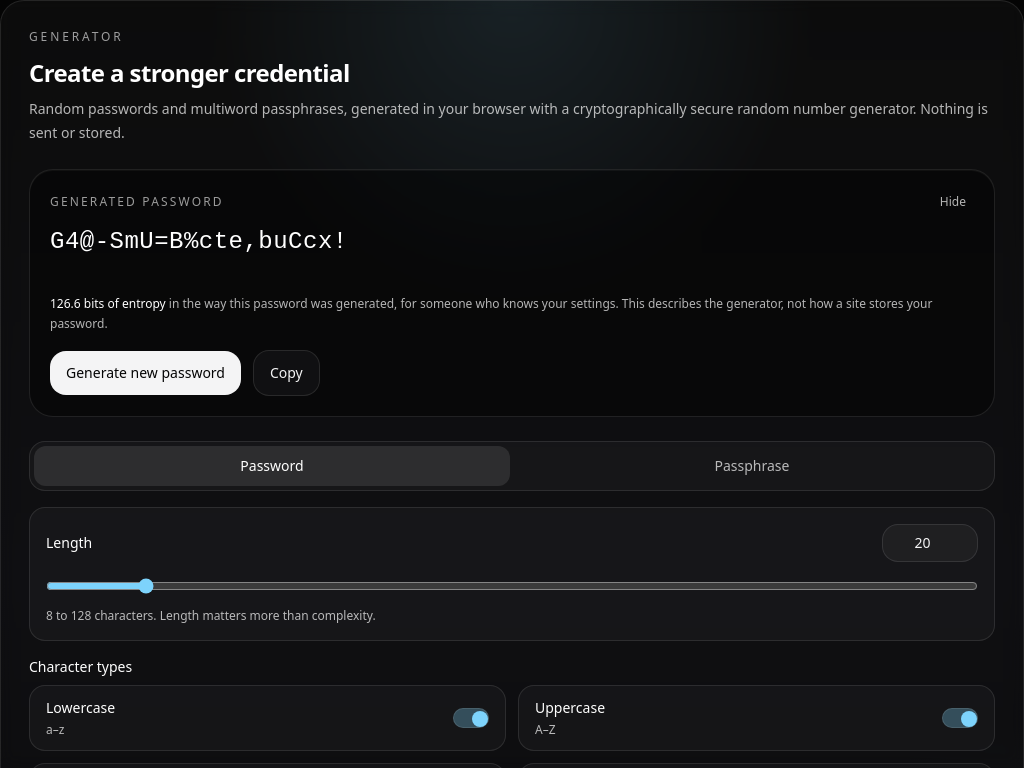
Scenario: PasswordGenerator: configuration › treats the length boundary 7 correctly in the interface
Replace the text in the number field labelled "Length" with "7": (930,543) 882,524 -> 978,562
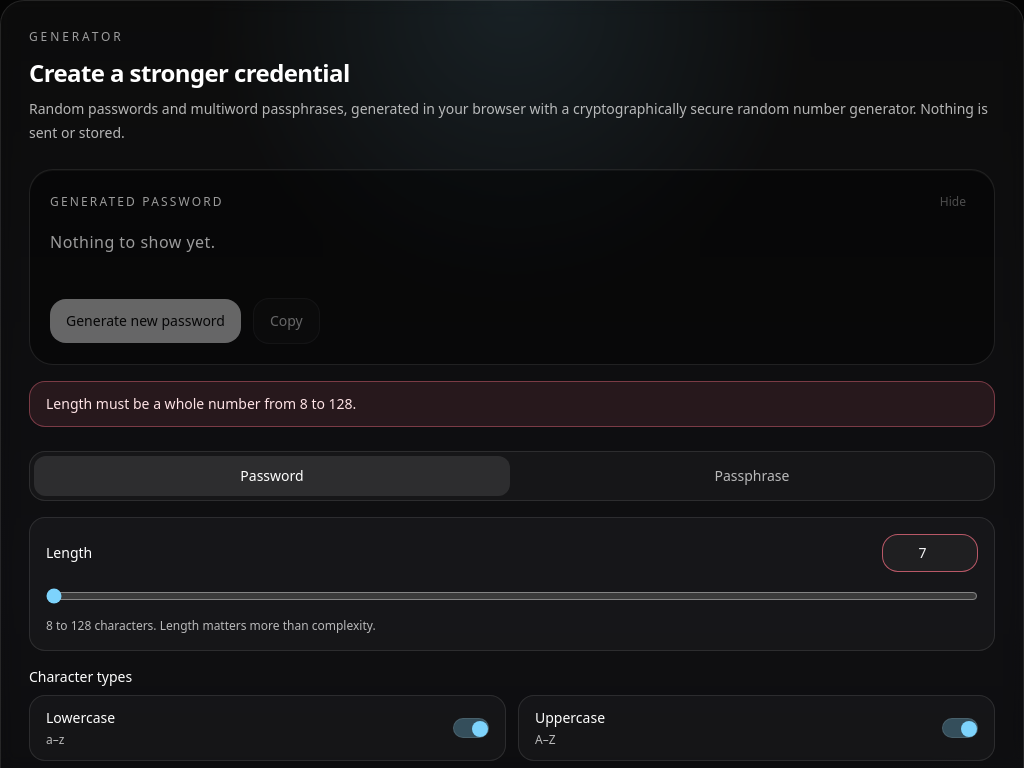
Check: the message shows "from 8 to 128", box 46,394 -> 356,413
Check: the element labelled "Nothing to show yet." is shown, box 50,231 -> 216,253
